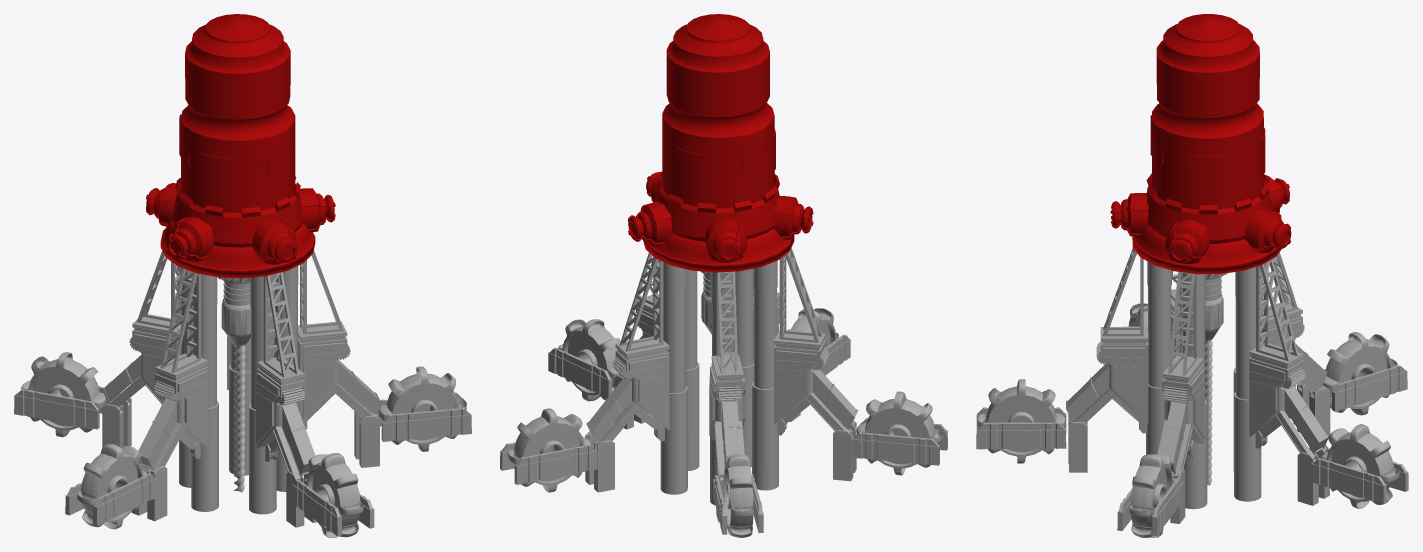
File: Drill_Complete.fbx
The picture shows the model from 3 angles, left to right: view 1: azimuth 30°, elevation 25°; view 2: azimuth 150°, elevation 25°; view 3: azimuth 270°, elevation 25°; orthographic projection. The views are drawn at different scales.
Parts seen in each view (by area): view 1: Top_Half_Drill_GEO, Drill_Support_1_GEO1, Drill_Support_1_GEO, Support_Piece_1_GEO4, Drill_Wheel_1_GEO4, Drill_Wheel_1_GEO2, Drill_Wheel_1_GEO1, Drill_Wheel_1_GEO, Support_Piece_1_GEO1, Support_Piece_1_GEO, Drill_Scaffold_1_GEO1, Drill_Wheel_Cover_L_1_GEO4 (+20 smaller); view 2: Top_Half_Drill_GEO, Drill_Support_1_GEO1, Drill_Support_1_GEO3, Support_Piece_1_GEO1, Support_Piece_1_GEO3, Drill_Wheel_1_GEO3, Drill_Wheel_1_GEO1, Drill_Wheel_1_GEO4, Drill_Support_1_GEO, Drill_Support_1_GEO4, Drill_Wheel_Cover_L_1_GEO1, Drill_Wheel_1_GEO2 (+17 smaller); view 3: Top_Half_Drill_GEO, Drill_Support_1_GEO3, Drill_Support_1_GEO, Support_Piece_1_GEO, Drill_Wheel_1_GEO3, Support_Piece_1_GEO3, Drill_Wheel_1_GEO, Drill_Wheel_1_GEO2, Drill_Support_1_GEO4, Drill_Wheel_1_GEO4, Drill_Scaffold_1_GEO3, Drill_Wheel_Cover_R_1_GEO (+17 smaller).
Boxes of the visible parts, bbox=[...] form: Top_Half_Drill_GEO: bbox=[146, 14, 335, 278]; Drill_Support_1_GEO1: bbox=[191, 274, 218, 511]; Drill_Support_1_GEO: bbox=[249, 276, 276, 514]; Support_Piece_1_GEO4: bbox=[298, 321, 347, 420]; Drill_Wheel_1_GEO4: bbox=[378, 366, 466, 451]; Drill_Wheel_1_GEO2: bbox=[21, 352, 106, 437]; Drill_Wheel_1_GEO1: bbox=[77, 444, 146, 529]; Drill_Wheel_1_GEO: bbox=[304, 453, 363, 537]; Support_Piece_1_GEO1: bbox=[155, 353, 208, 446]; Support_Piece_1_GEO: bbox=[256, 357, 305, 448]; Drill_Scaffold_1_GEO1: bbox=[160, 268, 200, 373]; Drill_Wheel_Cover_L_1_GEO4: bbox=[381, 408, 471, 441]; Top_Half_Drill_GEO: bbox=[628, 14, 813, 272]; Drill_Support_1_GEO1: bbox=[752, 260, 778, 490]; Drill_Support_1_GEO3: bbox=[660, 262, 687, 494]; Support_Piece_1_GEO1: bbox=[774, 330, 825, 424]; Support_Piece_1_GEO3: bbox=[615, 337, 669, 430]; Drill_Wheel_1_GEO3: bbox=[507, 408, 591, 492]; Drill_Wheel_1_GEO1: bbox=[856, 391, 943, 475]; Drill_Wheel_1_GEO4: bbox=[558, 319, 620, 401]; Drill_Support_1_GEO: bbox=[735, 268, 753, 467]; Drill_Support_1_GEO4: bbox=[686, 269, 699, 470]; Drill_Wheel_Cover_L_1_GEO1: bbox=[852, 432, 939, 465]; Drill_Wheel_1_GEO2: bbox=[723, 454, 753, 537]; Top_Half_Drill_GEO: bbox=[1110, 14, 1291, 274]; Drill_Support_1_GEO3: bbox=[1234, 267, 1261, 501]; Drill_Support_1_GEO: bbox=[1146, 261, 1171, 454]; Support_Piece_1_GEO: bbox=[1100, 327, 1148, 423]; Drill_Wheel_1_GEO3: bbox=[1321, 424, 1399, 508]; Support_Piece_1_GEO3: bbox=[1249, 343, 1303, 436]; Drill_Wheel_1_GEO: bbox=[977, 379, 1065, 463]; Drill_Wheel_1_GEO2: bbox=[1323, 332, 1397, 415]; Drill_Support_1_GEO4: bbox=[1183, 273, 1207, 509]; Drill_Wheel_1_GEO4: bbox=[1129, 454, 1173, 537]; Drill_Scaffold_1_GEO3: bbox=[1256, 259, 1298, 361]; Drill_Wheel_Cover_R_1_GEO: bbox=[976, 422, 1066, 449].
Bounding box in the file's own units: 29259 × 33125 × 27872.
